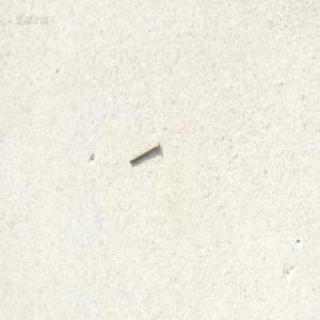Bolttrack_idkeyframe: (127, 139, 158, 163)
